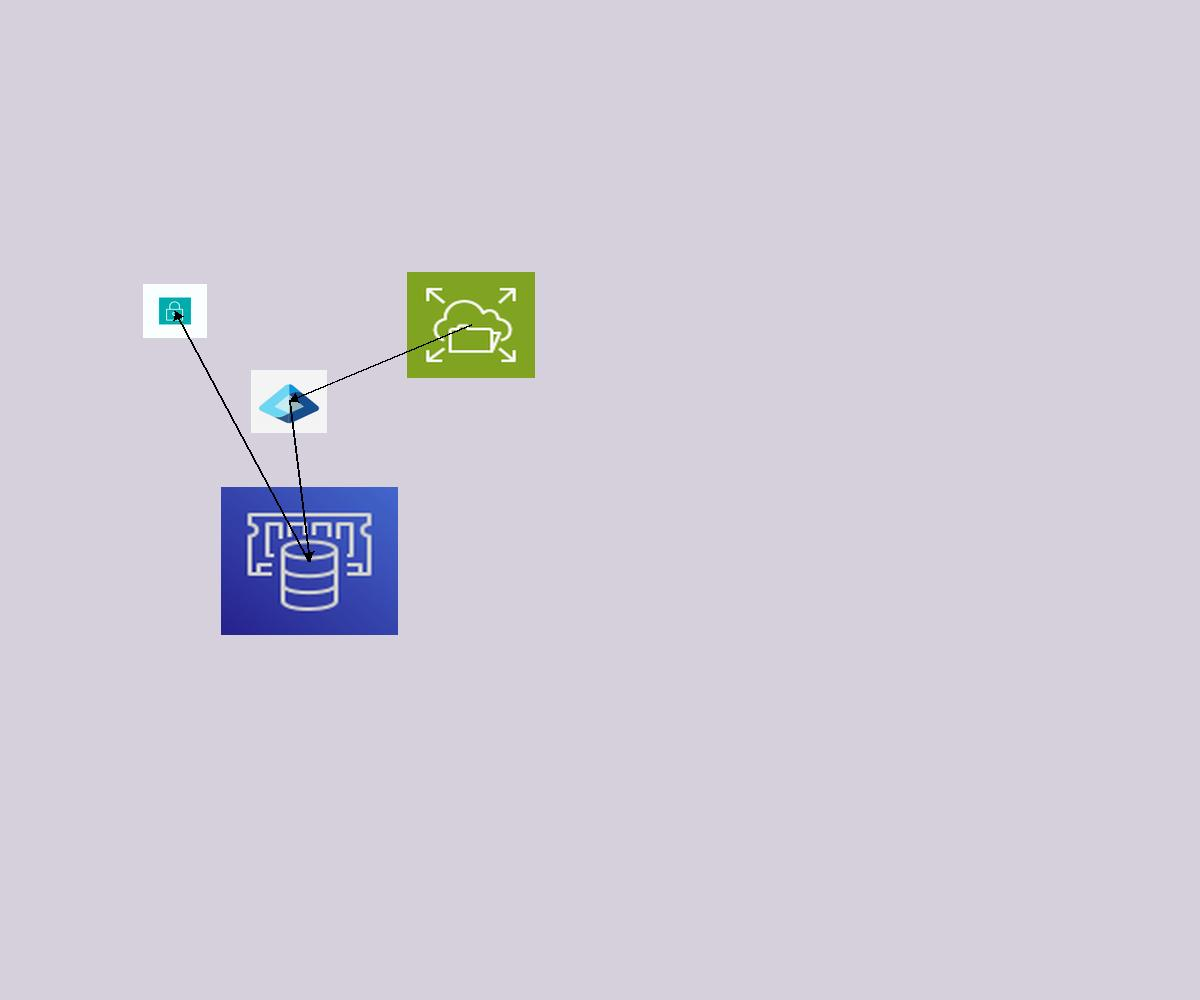AWS-EFS: (407, 272, 535, 378)
AWS-ElastiCache: (221, 487, 398, 635)
AWS-Private-subnet: (143, 284, 207, 338)
Azure_microsoft_entra: (251, 370, 327, 433)
